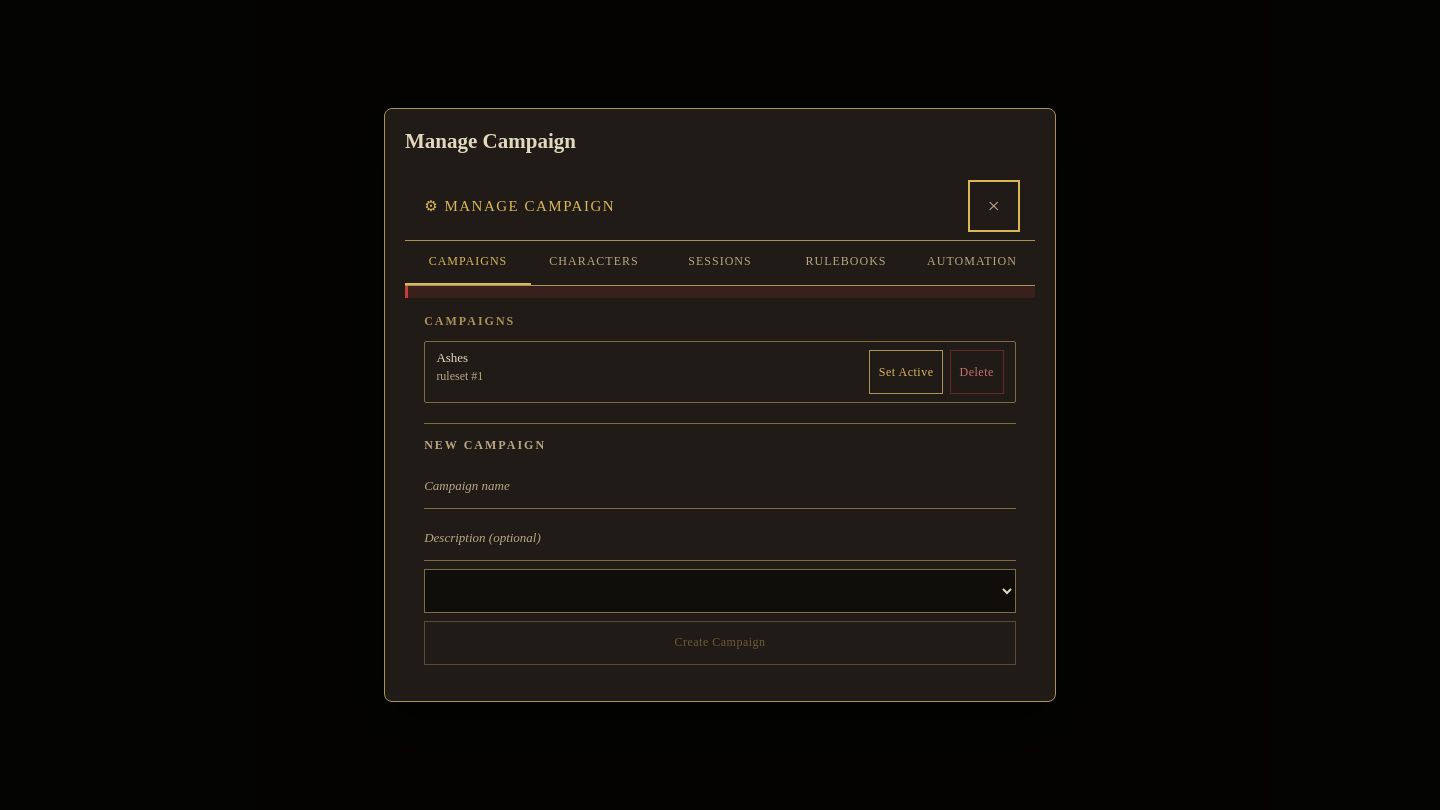
Test case: announces a destructive management action after it succeeds
What coordinates should you click on to do the following:
click the button "Delete"
I would click on:
 (977, 372)
Its box is [950,350,1004,394].
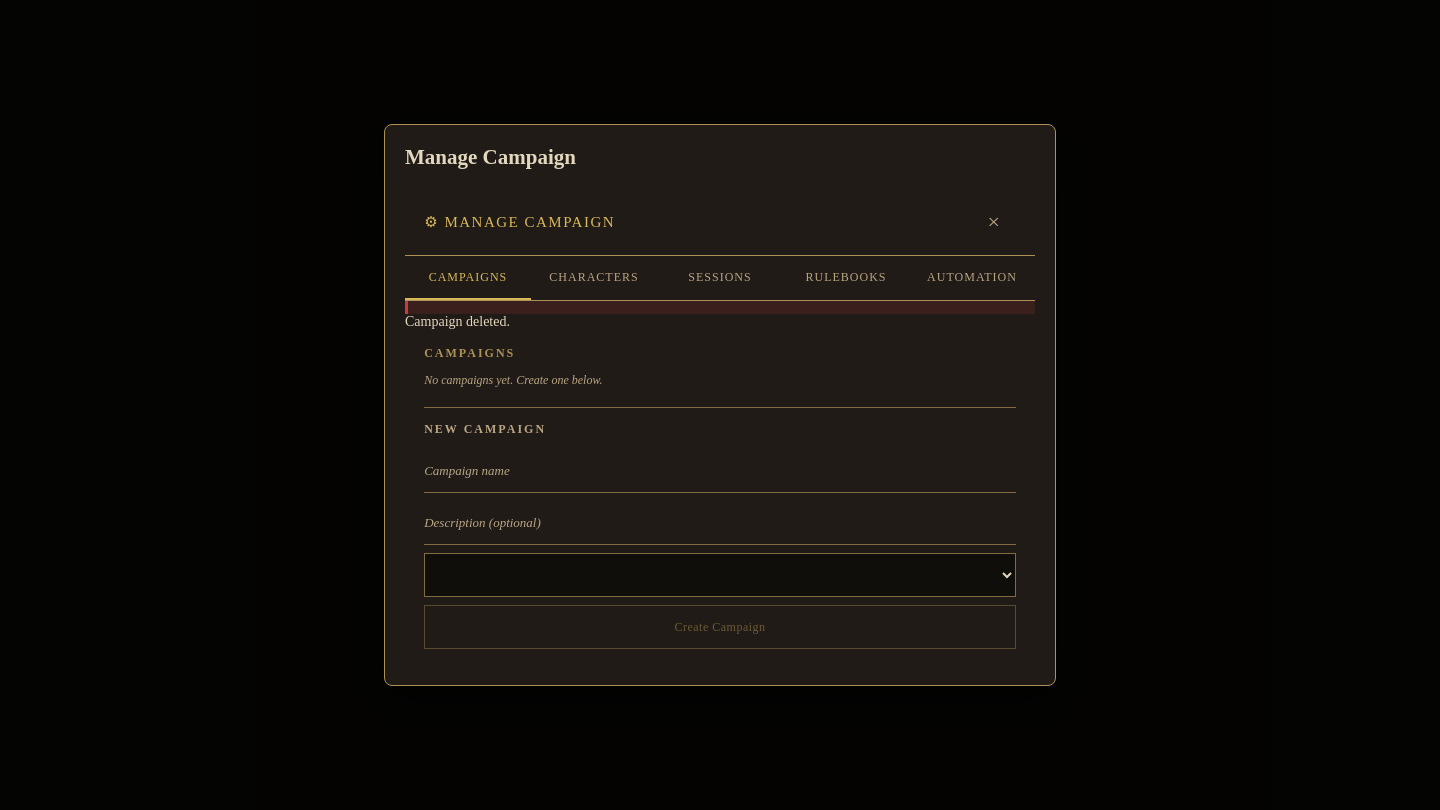
Expected: the message "Campaign deleted." is shown, [405,314,510,329]
